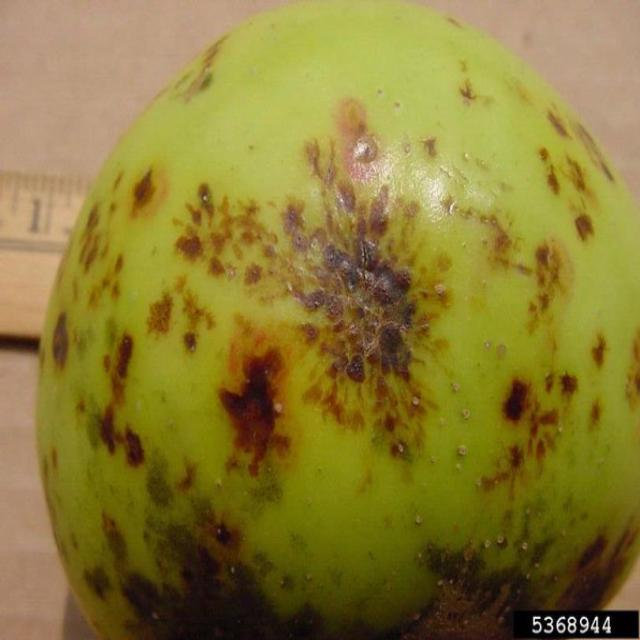Rotten Apple: (28, 15, 634, 612)
